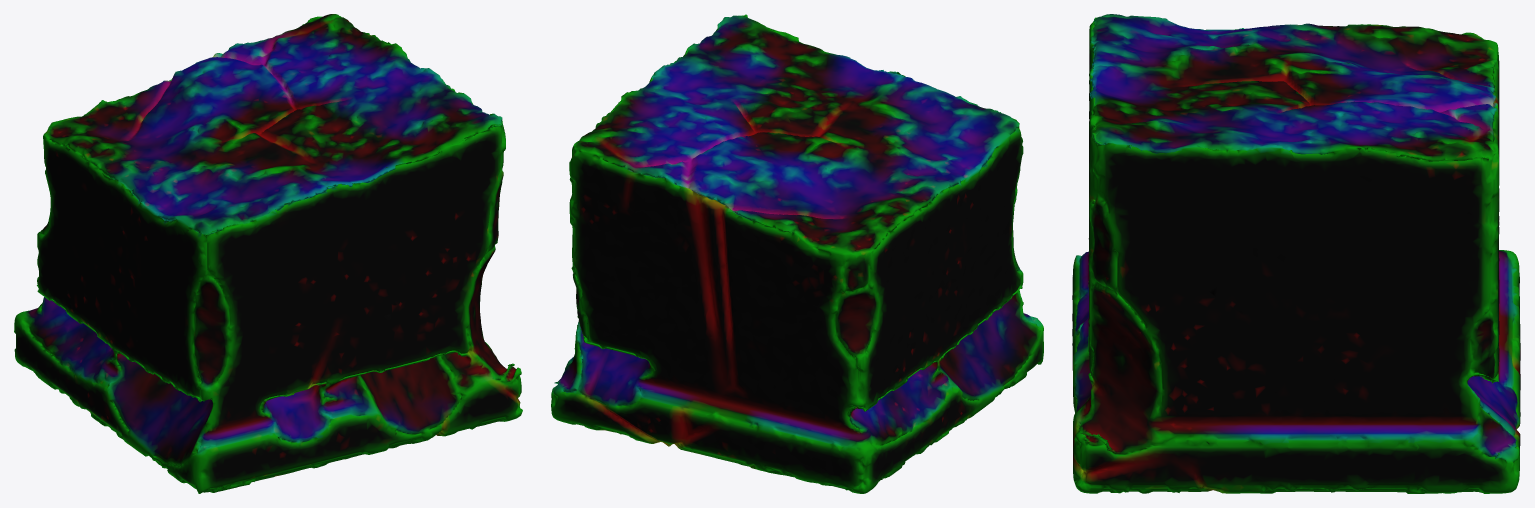
The model's file is SM_Ruin_A.glb.
3 renders of one model, left to right at view 1: azimuth 30°, elevation 25°; view 2: azimuth 150°, elevation 25°; view 3: azimuth 270°, elevation 25°, orthographic. The views are drawn at different scales.
Parts seen in each view (by area): view 1: SM_Ruin_A; view 2: SM_Ruin_A; view 3: SM_Ruin_A.
Boxes of the visible parts, x1,y1,x2,y2 form: SM_Ruin_A: [14, 14, 522, 493]; SM_Ruin_A: [551, 14, 1043, 493]; SM_Ruin_A: [1072, 14, 1520, 493].
Bounding box in the file's own units: 1.93 × 1.65 × 1.9.
